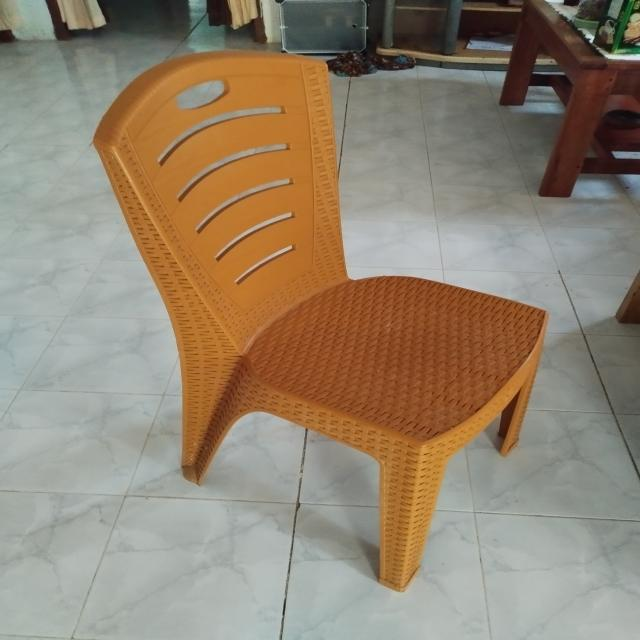chair: (30, 24, 598, 631)
